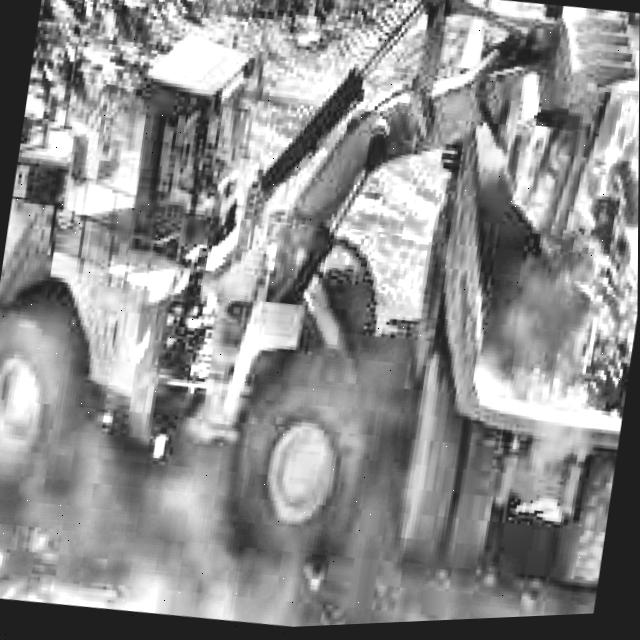buldozerpayloadergrader: (0, 0, 640, 618)
dump_truck: (391, 12, 640, 595)
